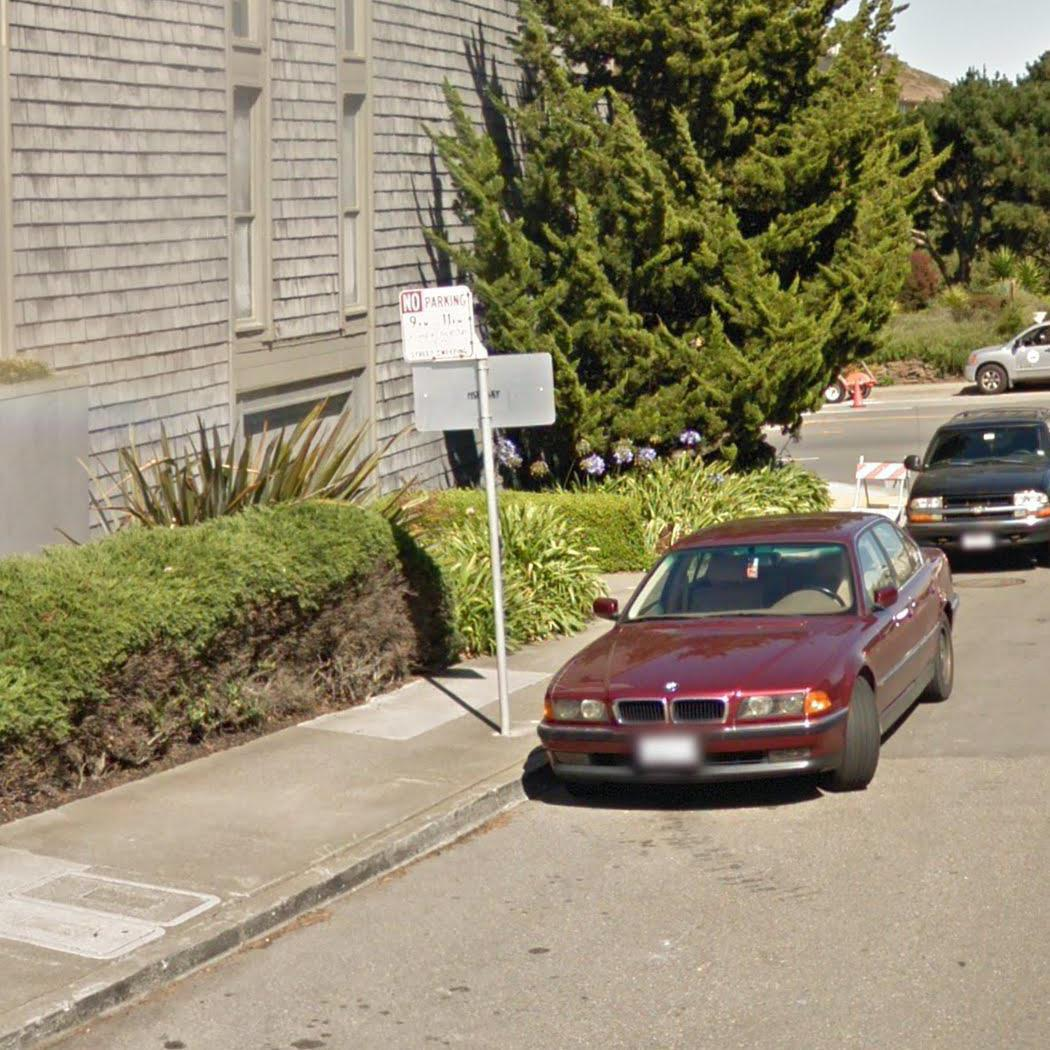No Parking: (393, 282, 481, 366)
